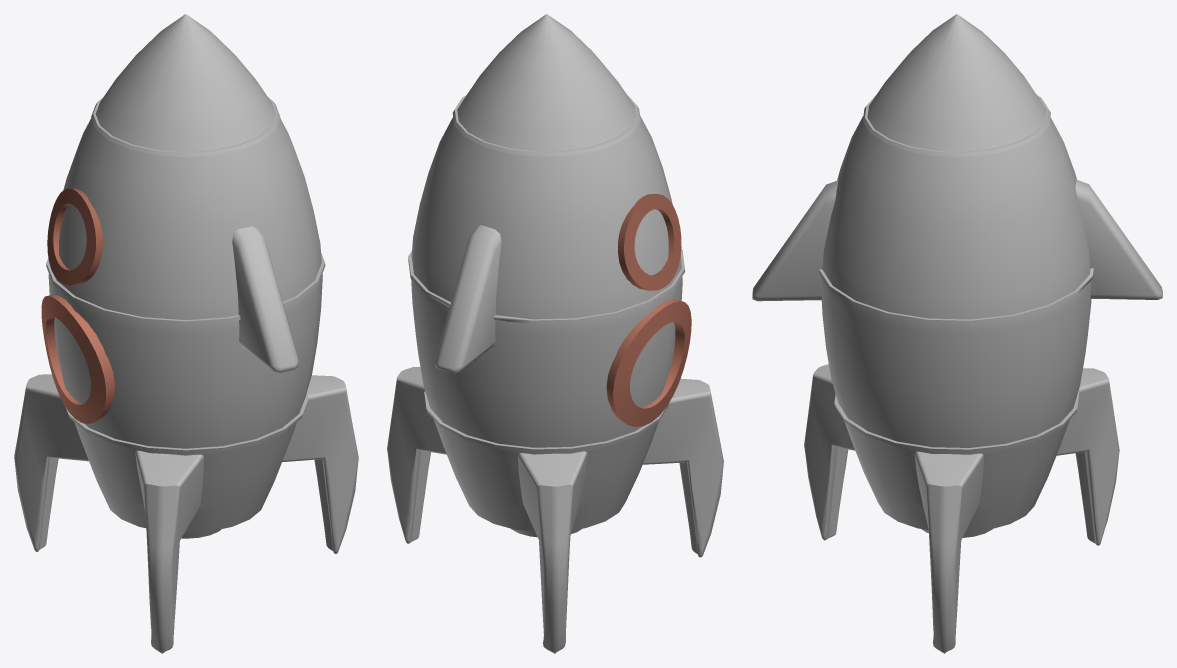
The model's file is SpaceShip_Backup.fbx.
The picture shows the model from 3 angles, left to right: view 1: azimuth 30°, elevation 25°; view 2: azimuth 150°, elevation 25°; view 3: azimuth 270°, elevation 25°; orthographic projection.
Visible parts, largest first — view 1: Rocket; view 2: Rocket; view 3: Rocket.
Boxes of the visible parts, left/top/right/bottom form: Rocket: left=14, top=14, right=358, bottom=653; Rocket: left=387, top=14, right=723, bottom=653; Rocket: left=752, top=14, right=1162, bottom=653.
Size of the model in its own units: 218 by 412 by 269.
